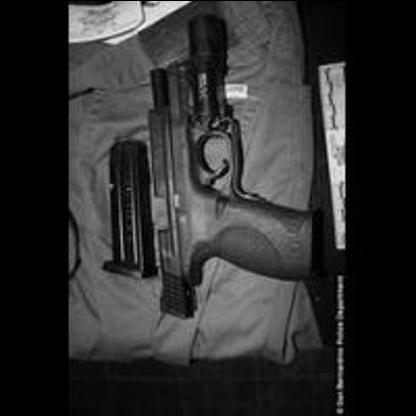weapon: (145, 10, 325, 322)
